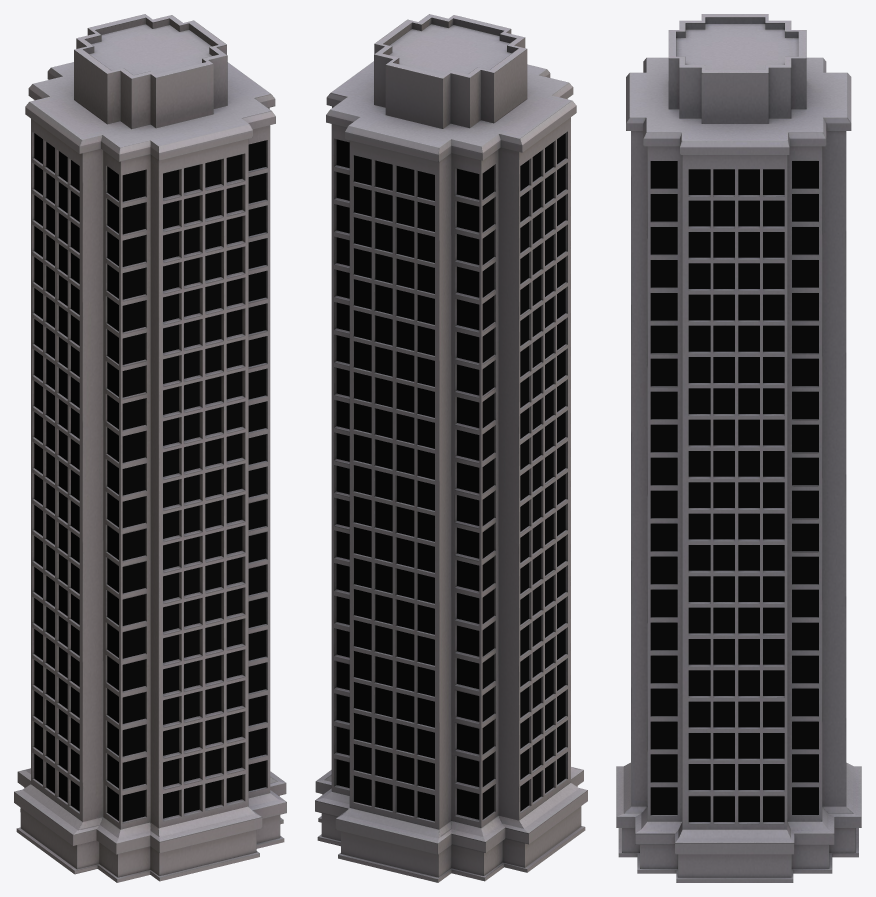
The model's file is Tower_c.gltf.
The picture shows the model from 3 angles, left to right: view 1: azimuth 30°, elevation 25°; view 2: azimuth 150°, elevation 25°; view 3: azimuth 270°, elevation 25°; orthographic projection.
Visible parts, largest first — view 1: Cube.035; view 2: Cube.035; view 3: Cube.035.
Boxes of the visible parts, x1,y1,x2,y2 form: Cube.035: (14, 14, 286, 882); Cube.035: (315, 14, 587, 882); Cube.035: (616, 14, 861, 882).
Bounding box in the file's own units: 27.79 × 97.19 × 27.41.
2 materials, 2 textured.
